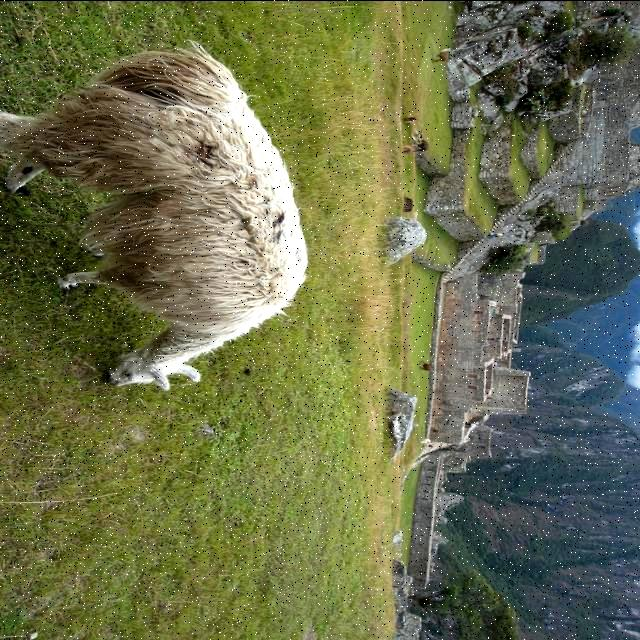sheep: (1, 39, 308, 385)
